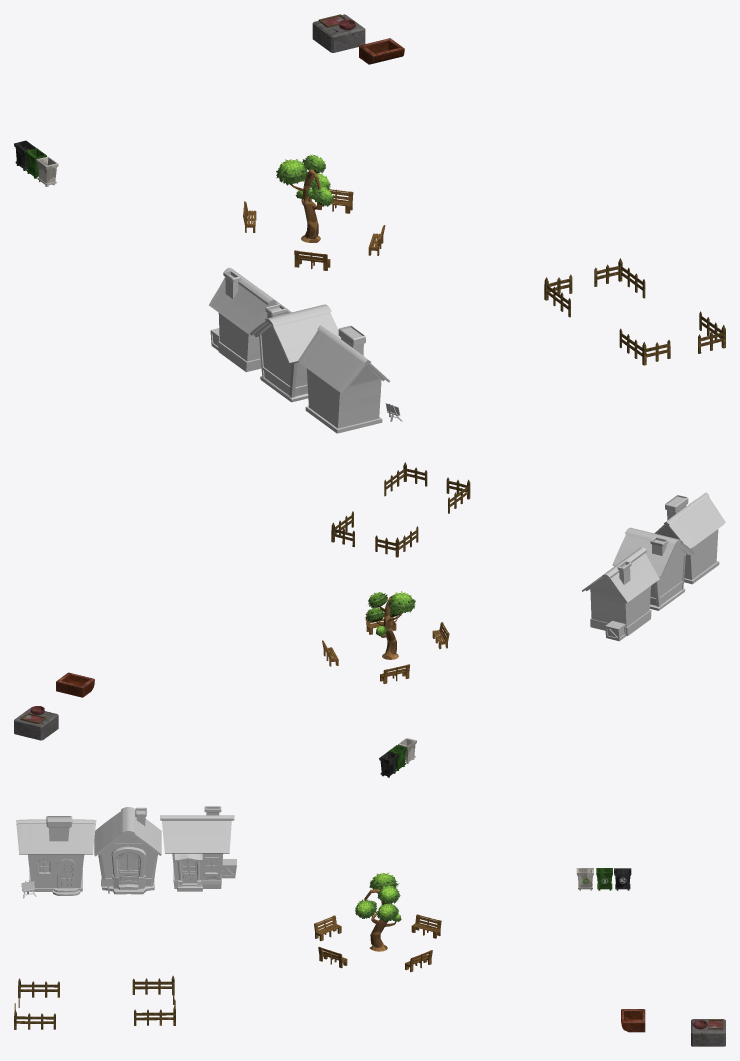
The model's file is Escenario nuevo.fbx.
The picture shows the model from 3 angles, top to bottom: view 1: azimuth 30°, elevation 25°; view 2: azimuth 150°, elevation 25°; view 3: azimuth 270°, elevation 25°; orthographic projection. The views are drawn at different scales.
Visible parts, largest first — view 1: polySurface6, Shop2, polySurface5, MesaPapel, Arbol_Central, polySurface1, Cerca1, Cerca_3; view 2: polySurface5, polySurface6, Shop2, MesaPapel, polySurface1, Arbol_Central; view 3: polySurface6, Shop2, polySurface5, MesaPapel, polySurface1, Arbol_Central, Cerca4, Banca2, Cerca1, Banca1, Cerca_3, Cerca2.
Part boxes in pixels (x1,y1,x2,y2): polySurface6: [298, 325, 389, 433]; Shop2: [250, 304, 340, 402]; polySurface5: [209, 267, 291, 372]; MesaPapel: [312, 14, 365, 52]; Arbol_Central: [290, 169, 320, 242]; polySurface1: [359, 38, 404, 64]; Cerca1: [619, 328, 670, 365]; Cerca_3: [594, 258, 645, 298]; polySurface5: [582, 547, 659, 635]; polySurface6: [654, 492, 725, 584]; Shop2: [612, 527, 694, 610]; MesaPapel: [14, 708, 58, 740]; polySurface1: [56, 672, 94, 697]; Arbol_Central: [376, 595, 401, 659]; polySurface6: [16, 816, 96, 895]; Shop2: [94, 807, 161, 894]; polySurface5: [160, 806, 234, 891]; MesaPapel: [691, 1019, 725, 1046]; polySurface1: [621, 1009, 645, 1032]; Arbol_Central: [364, 889, 396, 951]; Cerca4: [132, 976, 174, 1004]; Banca2: [411, 914, 441, 938]; Cerca1: [18, 978, 59, 1007]; Banca1: [314, 915, 341, 940]; Cerca_3: [134, 999, 175, 1025]; Cerca2: [14, 1003, 55, 1029].
Size of the model in its own units: 28 by 5.05 by 47.43.
